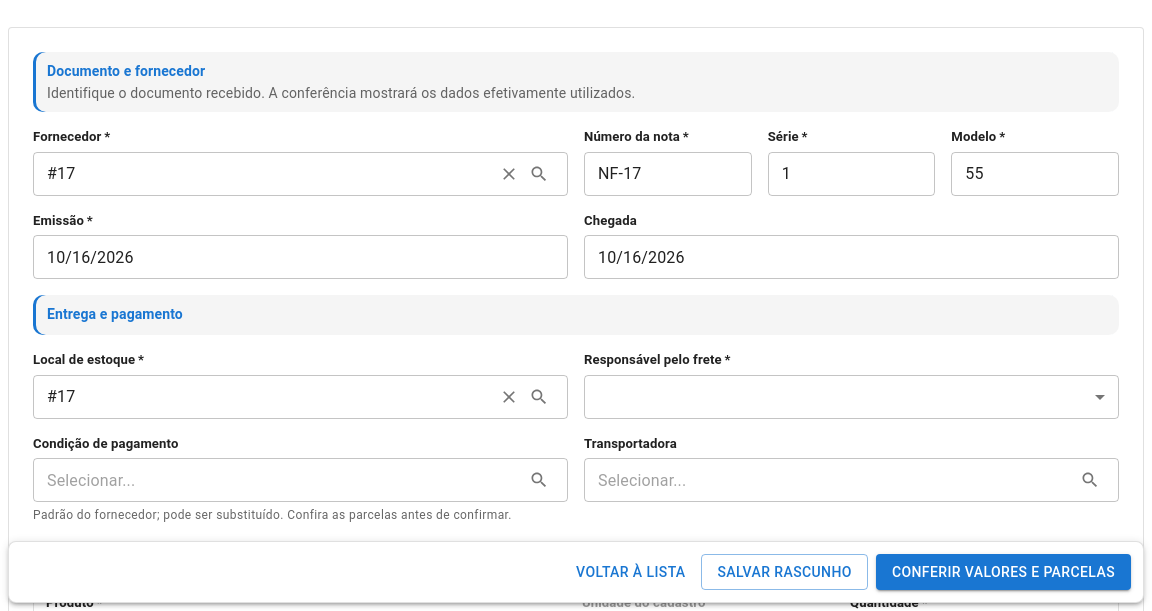
Scenario: Nota editável, revisão e confirmação por ID › rascunho antigo sem snapshot pode salvar a mesma composição e revisar a nova versão
Check: the field showing "NF-17" is shown, box [584, 154, 752, 194]
Click the button "Conferir valores e parcelas": (1003, 573) [876, 554, 1131, 591]
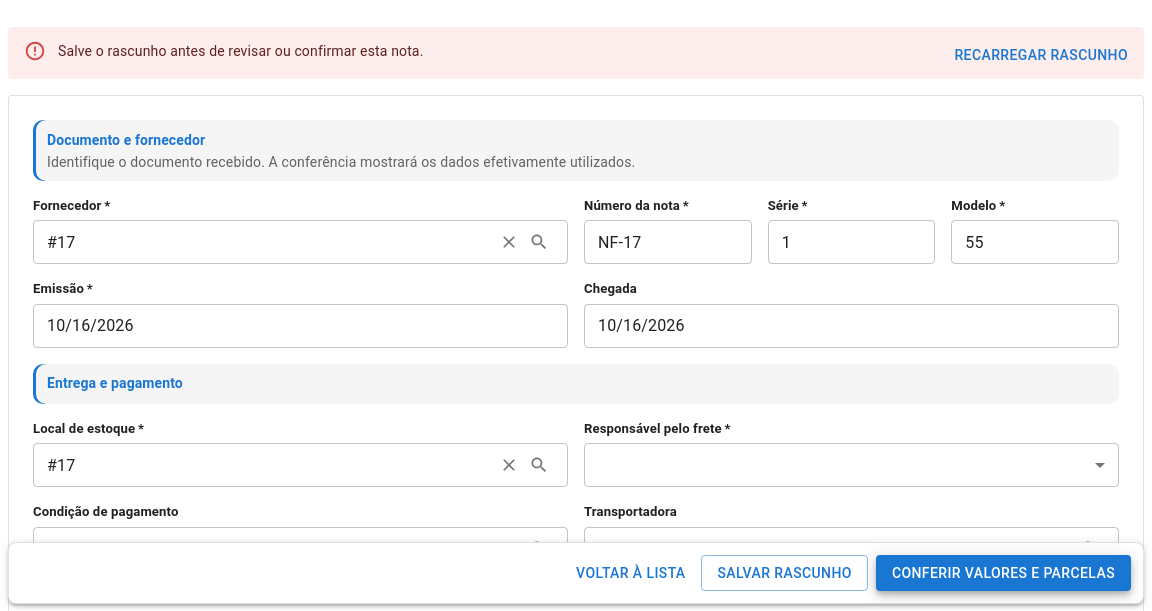
Check: the text "Salve o rascunho antes de revisar ou confirmar esta nota." is shown, box [58, 43, 424, 59]
Click the button "Salvar rascunho": (785, 573) [702, 554, 868, 591]
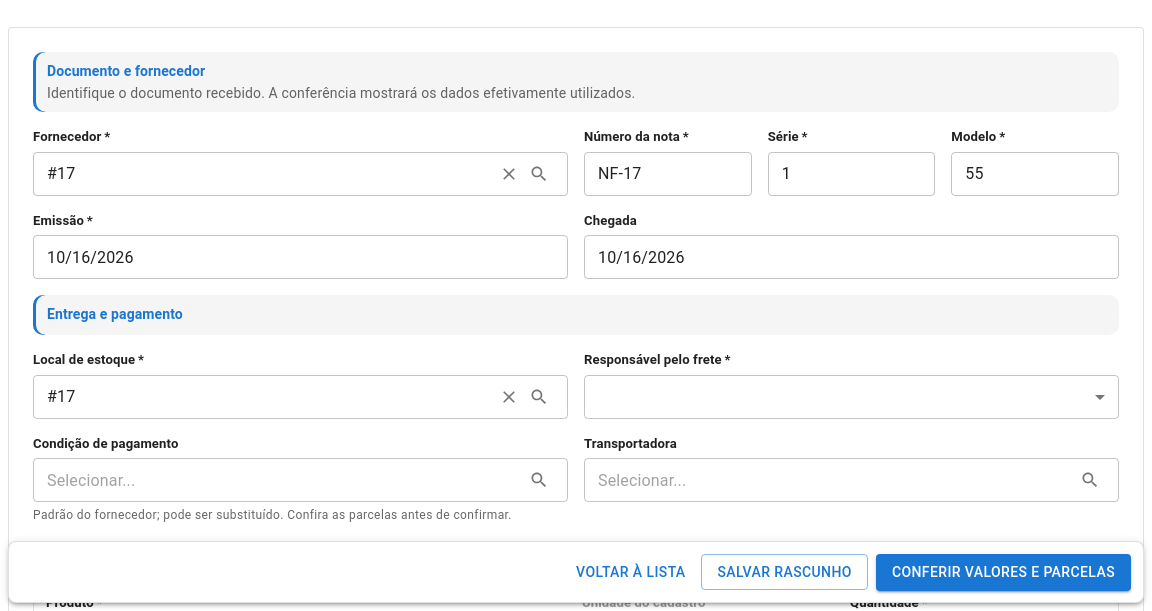
Check: the text "Salve o rascunho antes de revisar ou confirmar esta nota." is gone
Click the button "Conferir valores e parcelas": (1003, 573) [876, 554, 1131, 591]
(page scrolled)
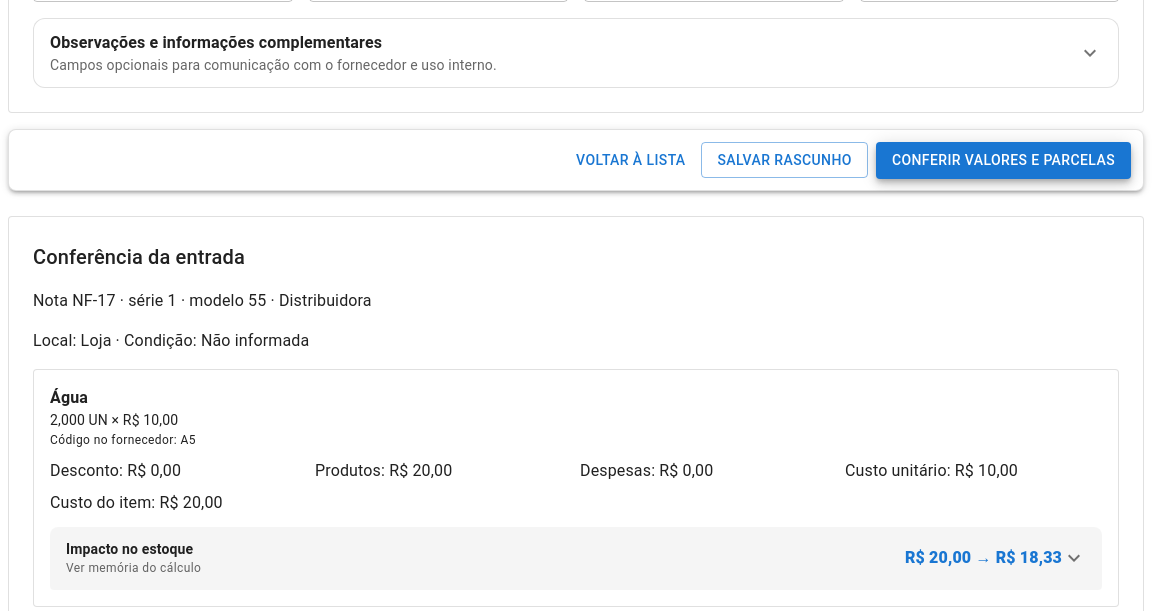
Check: the heading "Conferência da entrada" is shown, box [33, 245, 245, 269]
